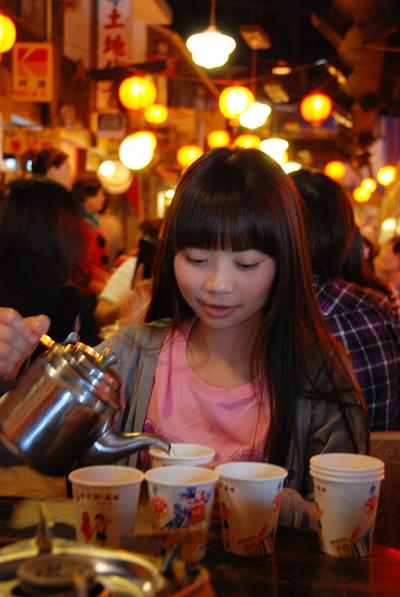person: (2, 145, 370, 537)
